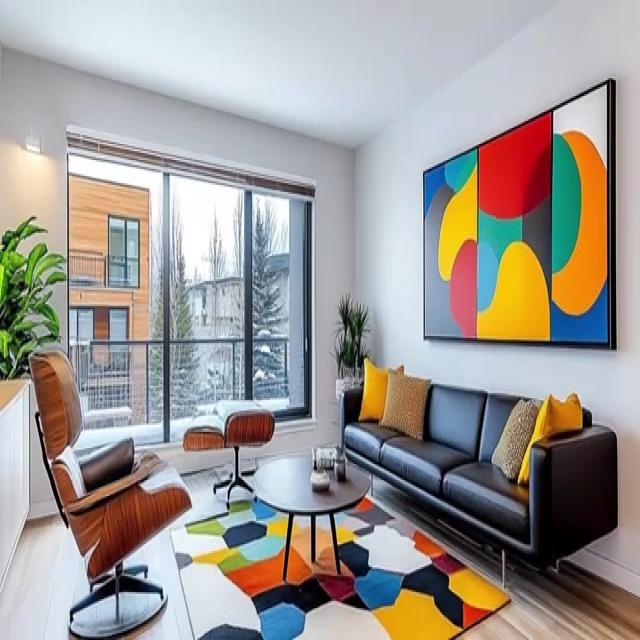obstacle: (339, 373, 618, 587), (28, 350, 192, 638), (252, 452, 371, 583)
